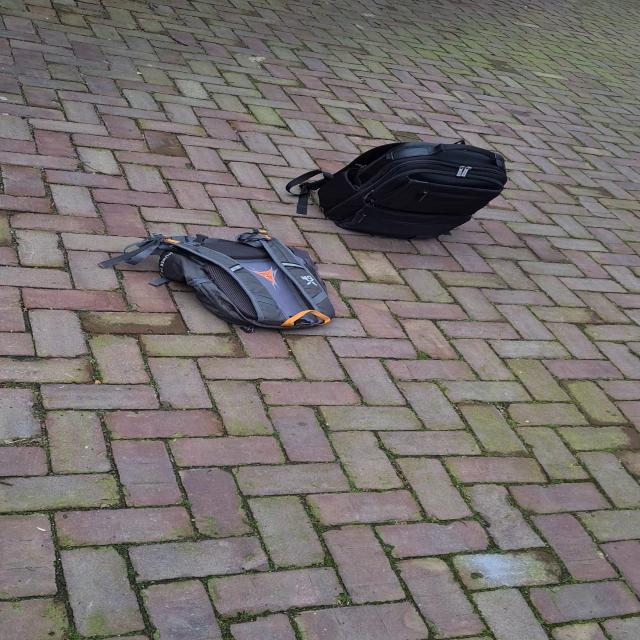backpack: (305, 136, 515, 242), (142, 227, 339, 333)
